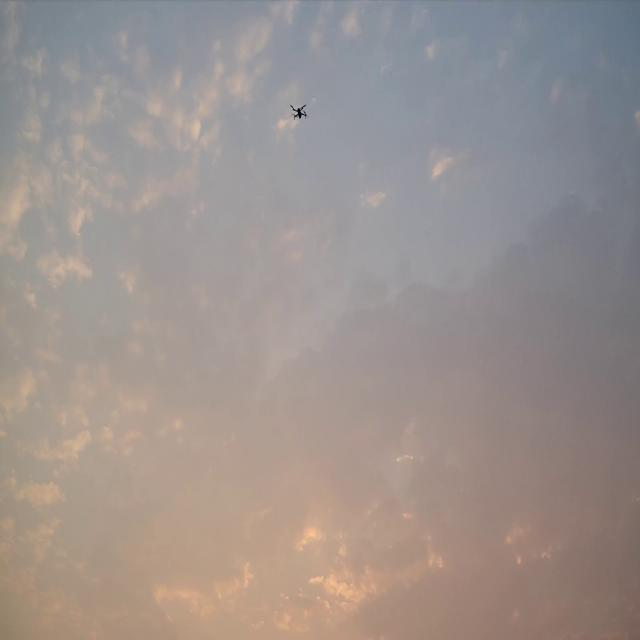UAV: (289, 104, 309, 120)
